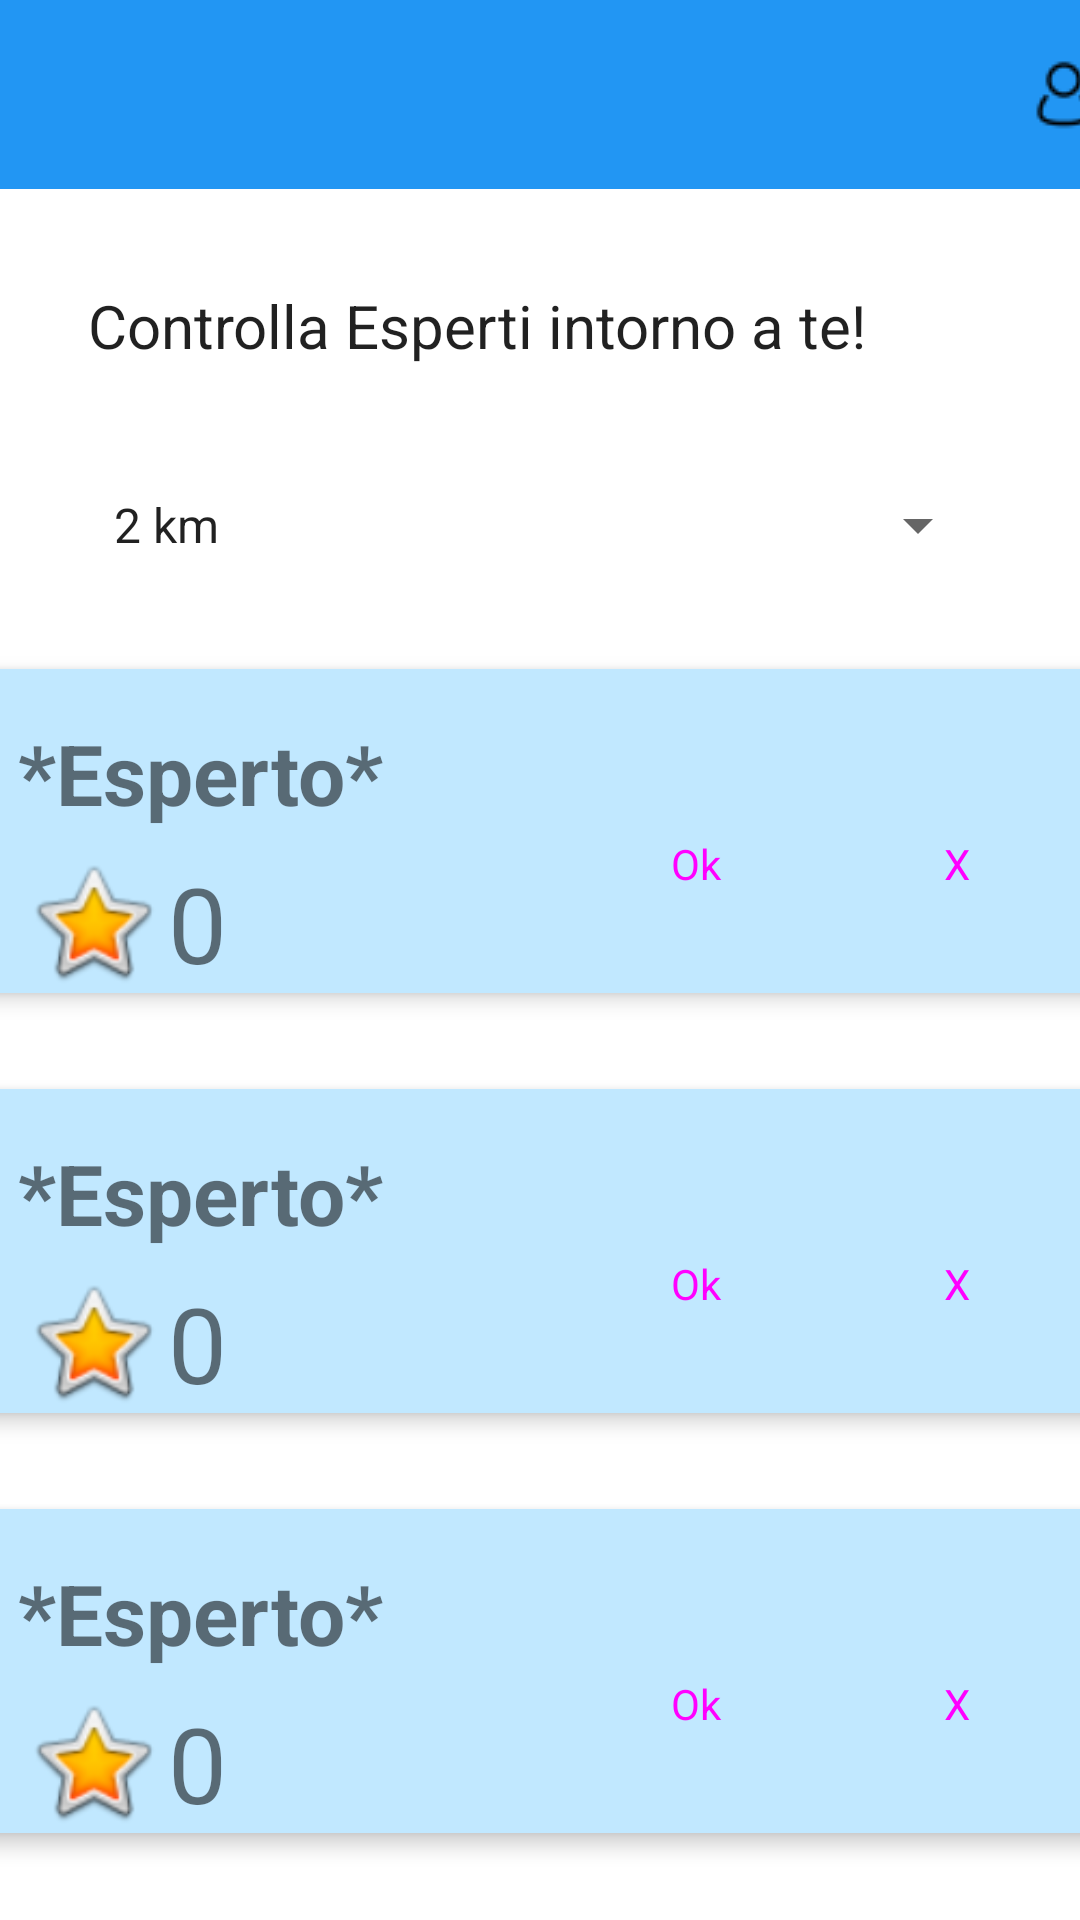

Named icons in this screenshot (1080px x 1920px) and their bounding boxes, bbox=[x1, y1, x2, y2]:
star on: bbox=[36, 867, 152, 979], bbox=[36, 1287, 152, 1399], bbox=[36, 1707, 152, 1819]
